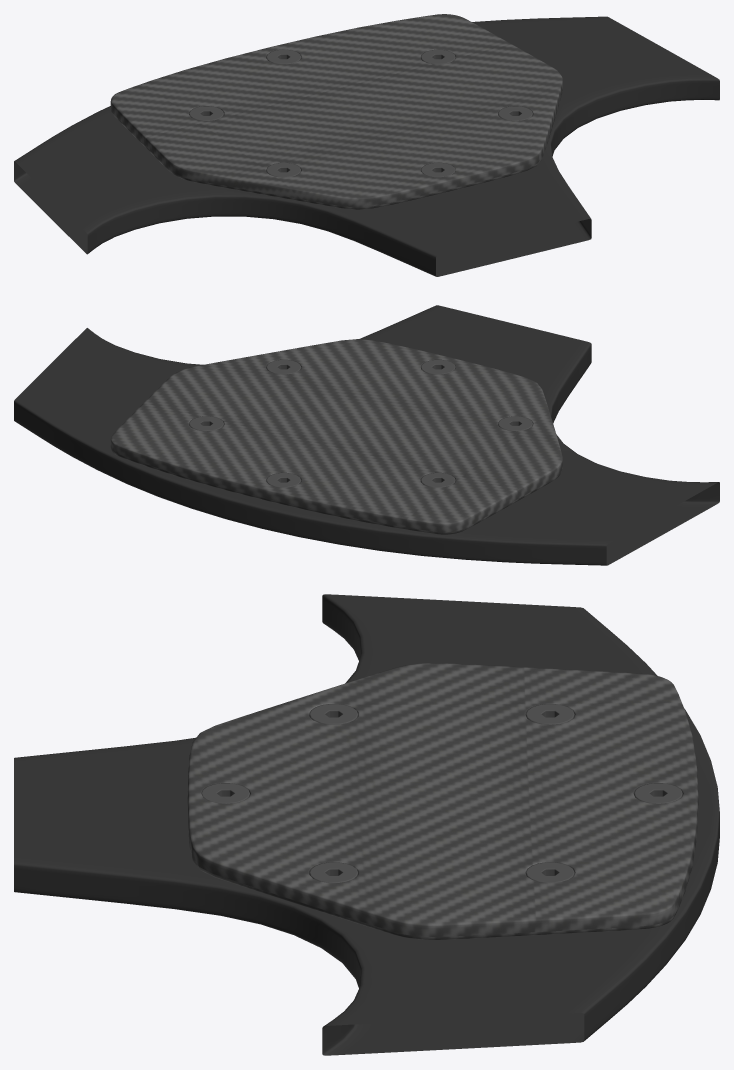
Rendered from centerPlate.glb.
3 views of the same model, one above another, from view 1: azimuth 30°, elevation 25°; view 2: azimuth 150°, elevation 25°; view 3: azimuth 270°, elevation 25° (orthographic). The views are drawn at different scales.
Parts seen in each view (by area): view 1: Plane.002, Plane.003, Circle.001; view 2: Plane.002, Plane.003, Circle.001; view 3: Plane.002, Plane.003, Circle.001.
Part boxes in pixels (bbox=[...]): Plane.002: bbox=[110, 14, 562, 209]; Plane.003: bbox=[14, 16, 719, 276]; Circle.001: bbox=[189, 49, 532, 177]; Plane.002: bbox=[110, 339, 562, 534]; Plane.003: bbox=[14, 305, 719, 565]; Circle.001: bbox=[189, 359, 532, 487]; Plane.002: bbox=[187, 663, 698, 939]; Plane.003: bbox=[14, 594, 719, 1055]; Circle.001: bbox=[201, 704, 682, 882].
Bounding box in the file's own units: 166 × 8.39 × 115.
3 materials, 1 textured.
